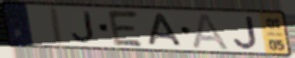A: (191, 12, 232, 51), (147, 12, 185, 48)
E: (106, 10, 146, 48)
I: (50, 5, 66, 47)
J: (232, 15, 260, 51), (71, 10, 97, 44)
